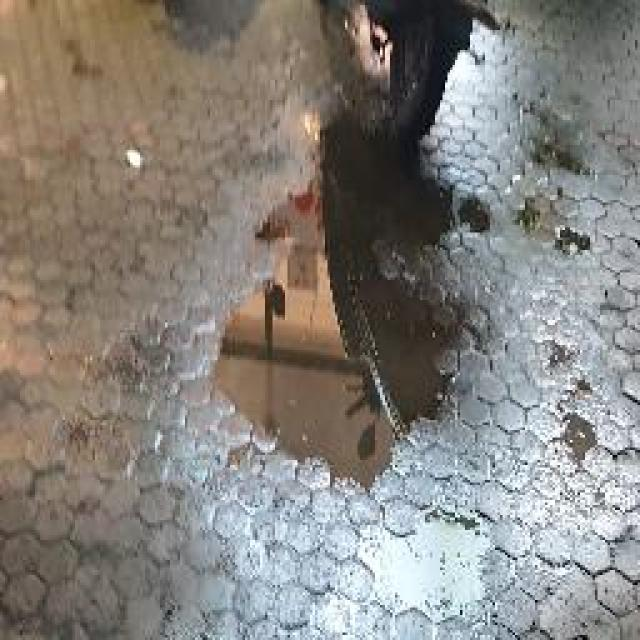puddle: (212, 122, 458, 498)
